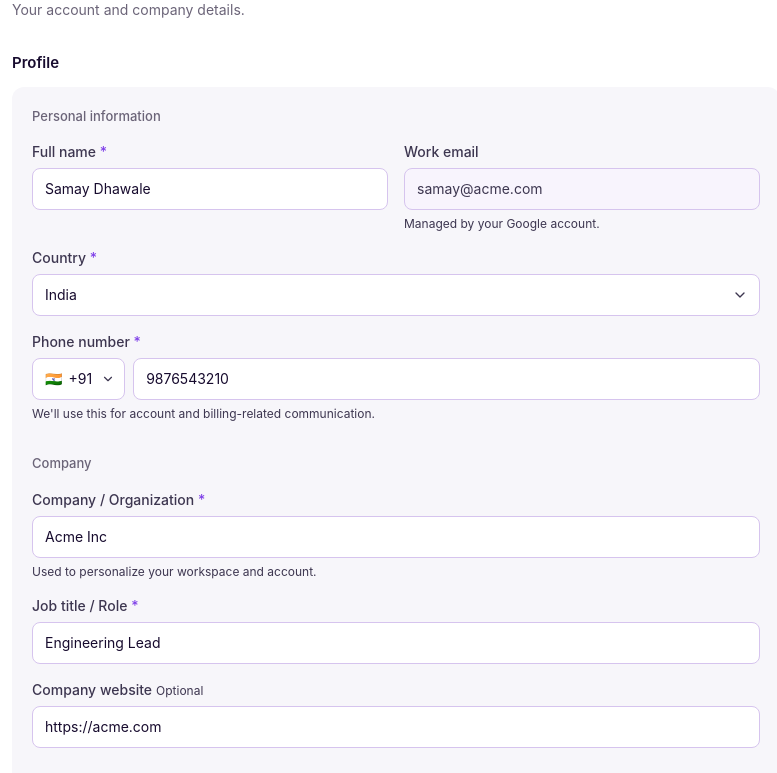
it: /dashboard/settings — profile › saves edits through PATCH /auth/profile and updates the store
This screenshot has width=777, height=773.
Step 1. Replace the text in the field labelled "Job title / Role *" with "CTO" → (396, 642), box x1=32 y1=622 x2=760 y2=664
(page scrolled)
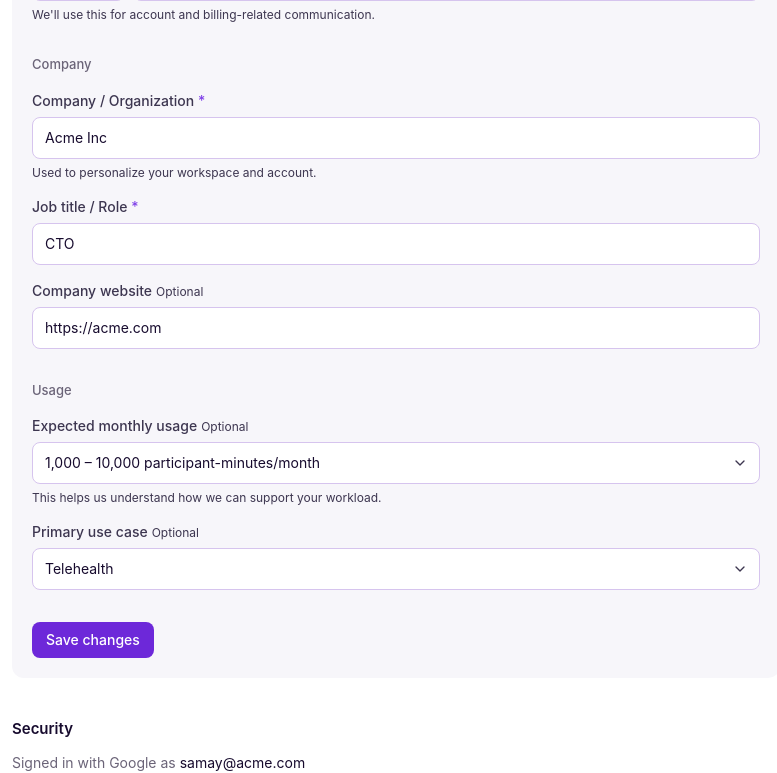
Step 2. Click the button "Save changes" → (93, 640), box x1=32 y1=622 x2=154 y2=658
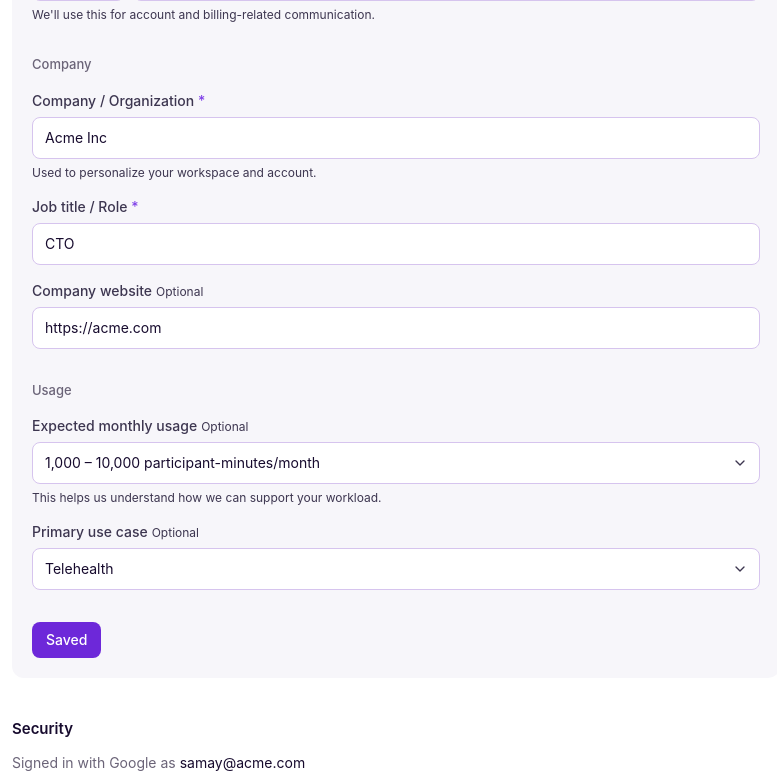
Result: the button "Saved" is shown at x1=32 y1=622 x2=101 y2=658
